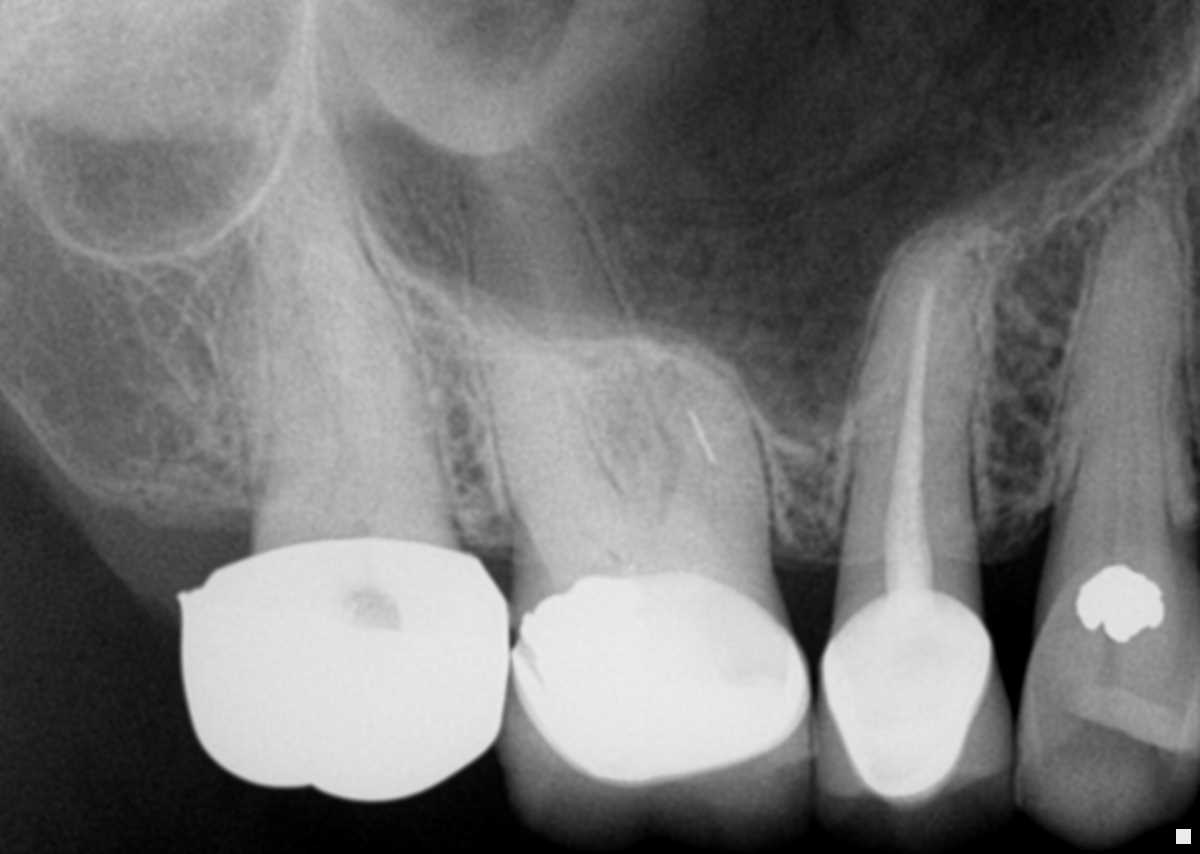Distal Root: (475, 324, 627, 546), (215, 234, 339, 494)
Main Root: (834, 230, 982, 562), (1056, 202, 1200, 527)
Mesial Root: (596, 345, 772, 557), (300, 230, 442, 485)
Palatal Root: (463, 152, 707, 544), (252, 129, 426, 502)
Root Canal Filling: (884, 285, 936, 594)
